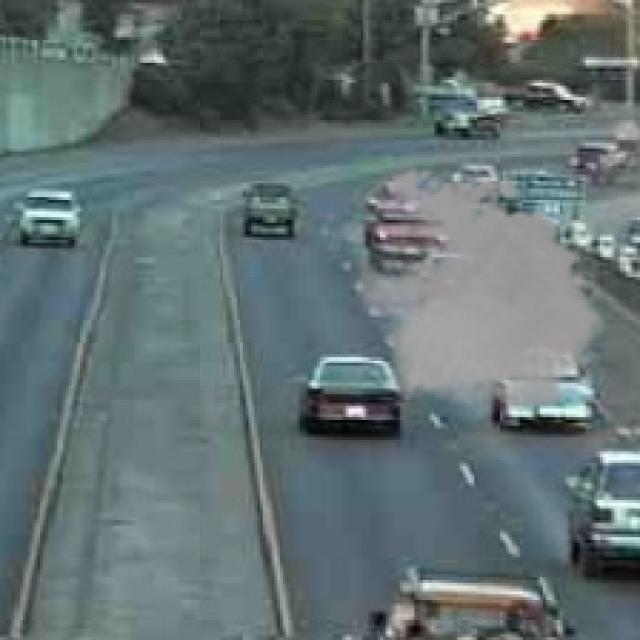smoke: (343, 160, 614, 420)
